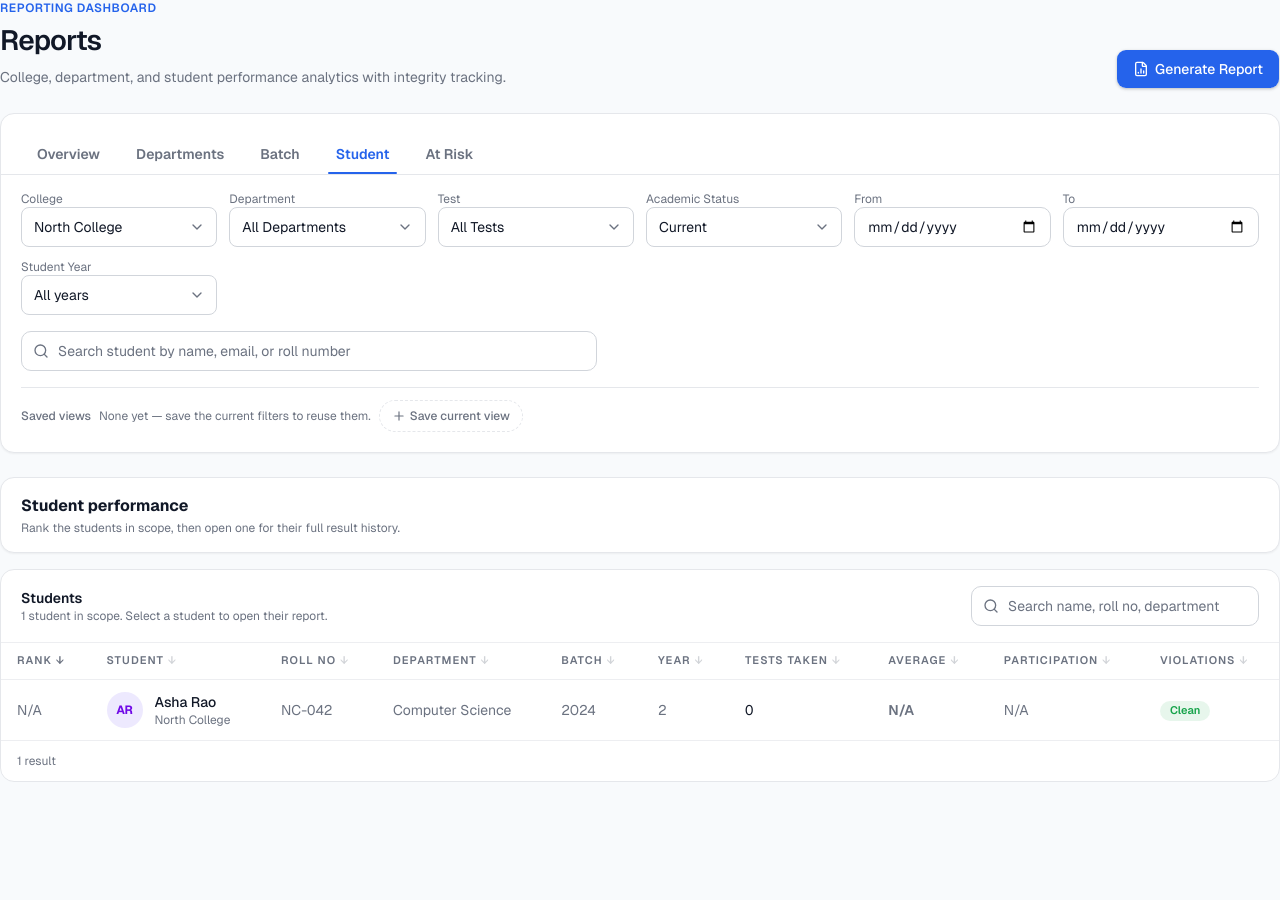
Test: Super Admin ReportsPage › lists students in scope with a searchable ranking table
expect the column heading "Rank ↓" is shown: met, box [1,643,90,679]
expect the column heading "Roll no ↓" is shown: met, box [265,643,377,679]
Type "nobody" into the search field named "search students in this list" at (1115, 606), box [971,586,1259,626]
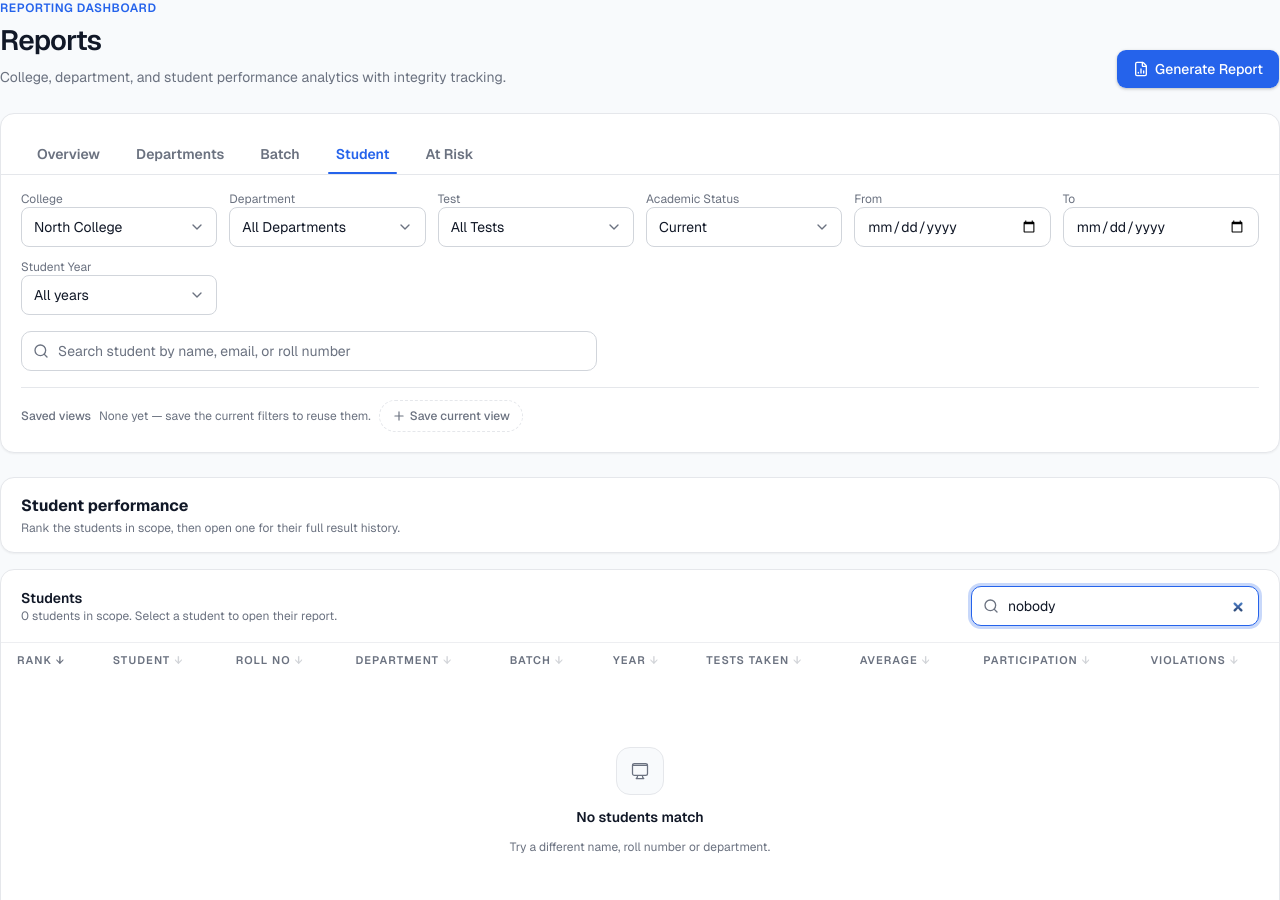
expect the text "No students match" is shown: met, box [576,807,704,827]
